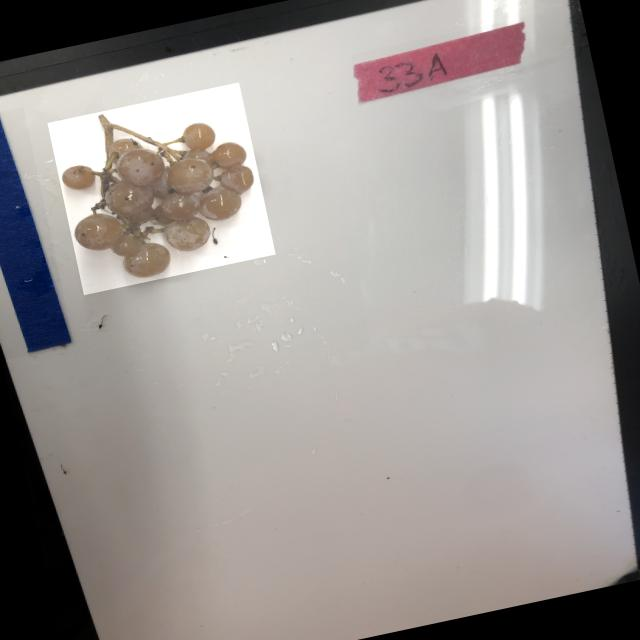grape_cluster: (47, 82, 275, 294)
index: (350, 17, 536, 105)
measure_label: (0, 106, 74, 360)
